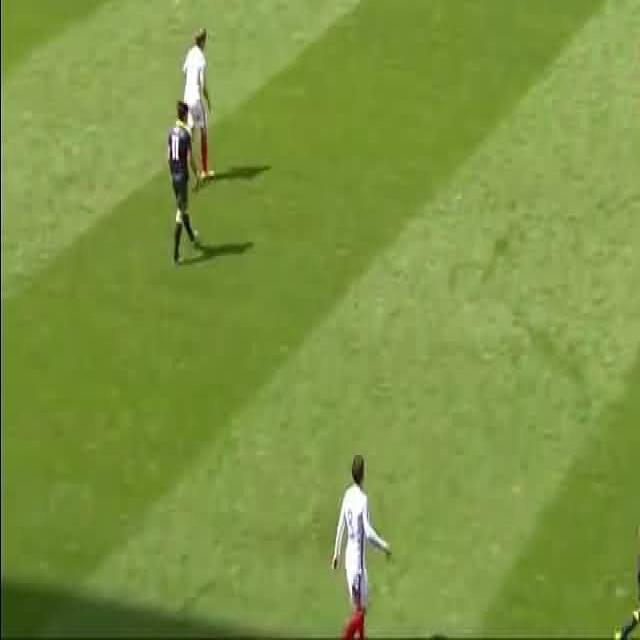player-white: (333, 449, 391, 640), (166, 100, 201, 262), (182, 28, 214, 183), (614, 471, 640, 640)
